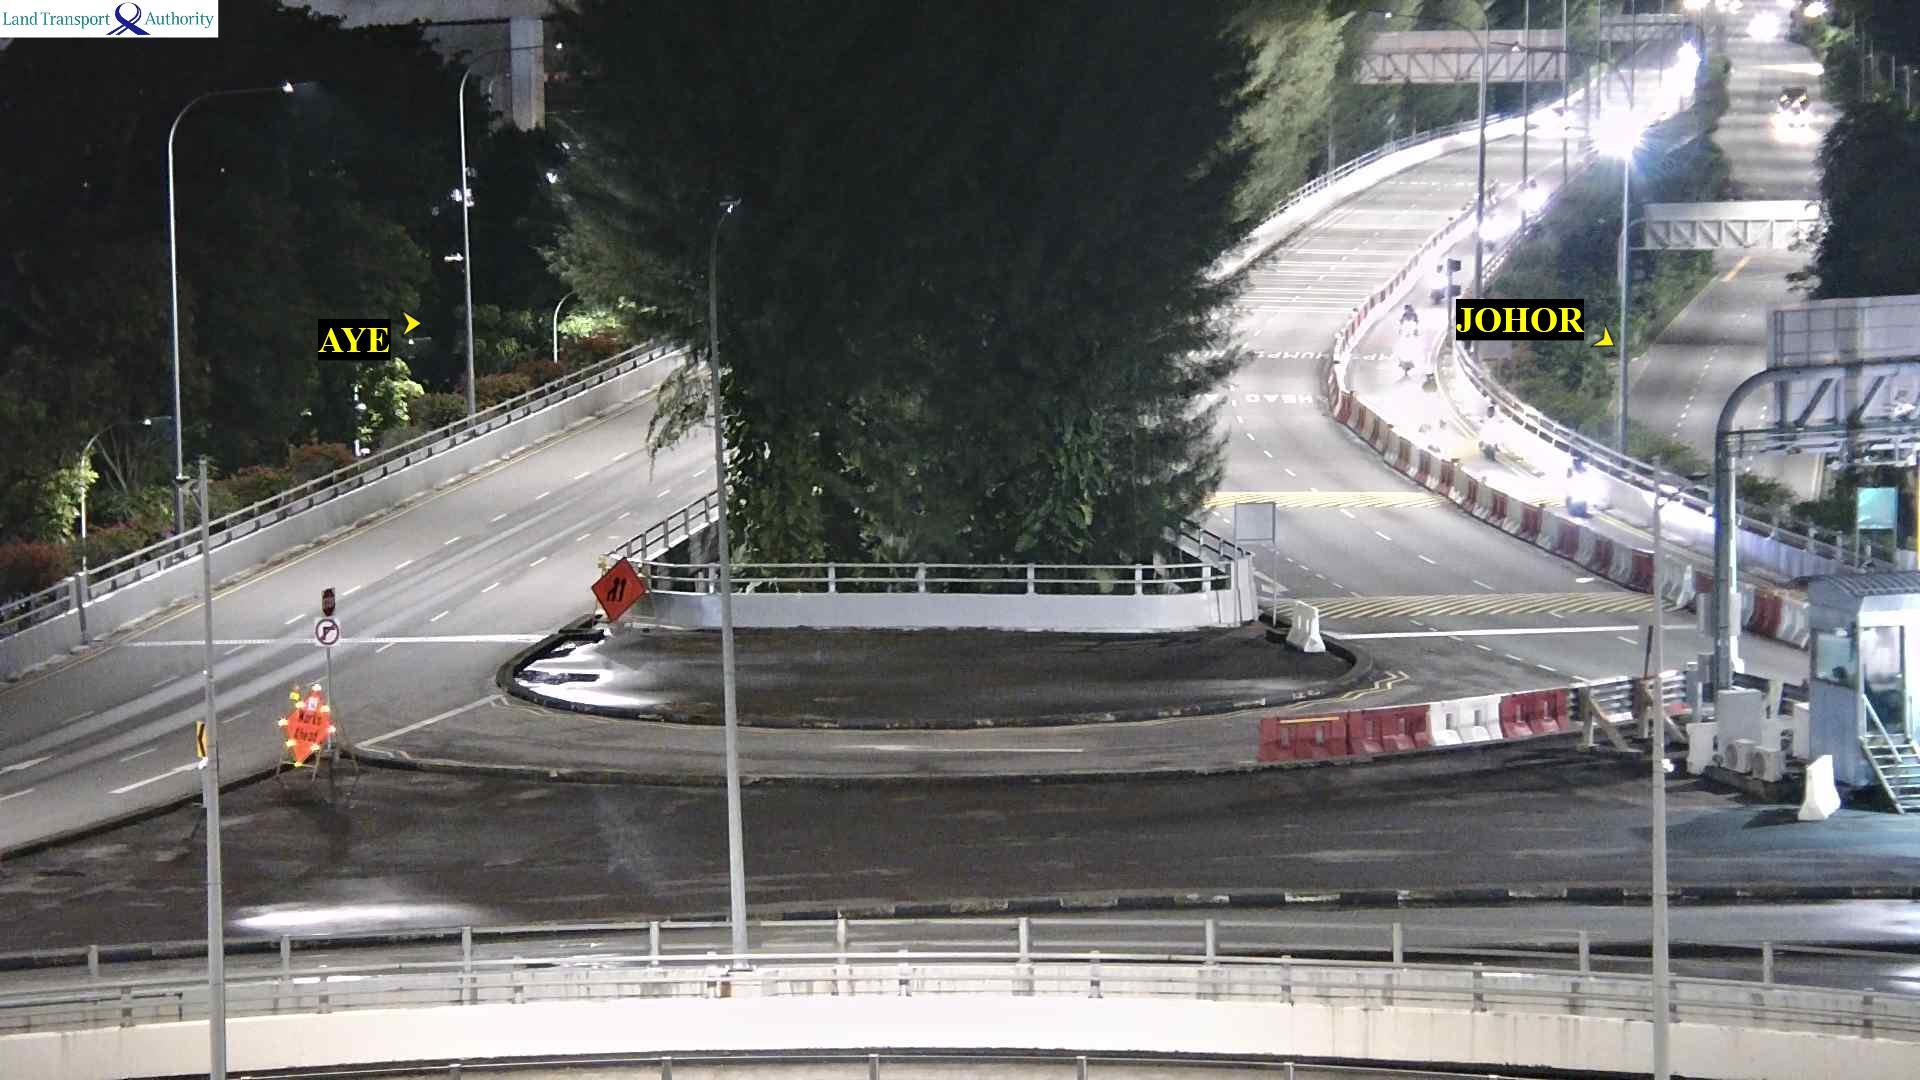vehicle-secondlink-johor: (1571, 458, 1590, 514), (1482, 401, 1501, 458), (1402, 306, 1415, 378), (1482, 210, 1499, 253), (1433, 257, 1444, 303)
